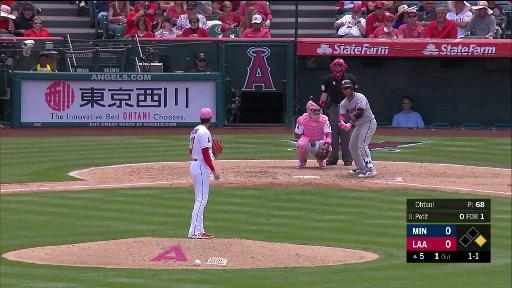pitcher: (188, 106, 223, 239)
